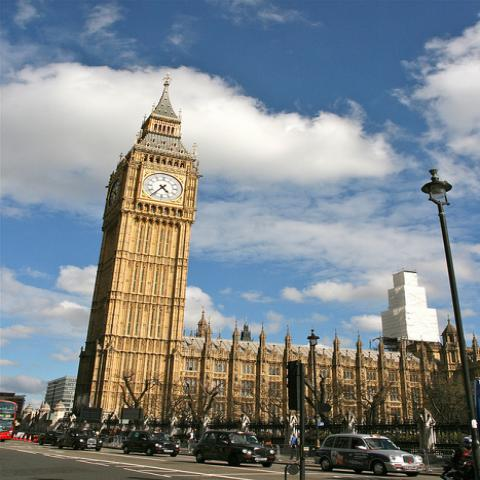bus: (0, 401, 17, 442)
car: (315, 433, 426, 477), (192, 430, 276, 468), (121, 431, 180, 458), (57, 427, 104, 452), (37, 434, 61, 446)
